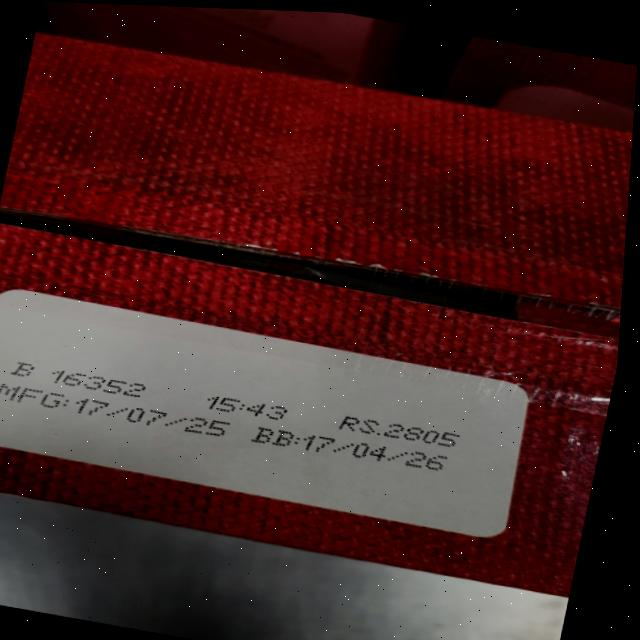BB: (252, 424, 457, 478)
Batch: (4, 359, 155, 401)
MFG: (0, 381, 234, 442)
RS: (337, 414, 468, 452)
TimeStamp: (204, 394, 293, 423)
